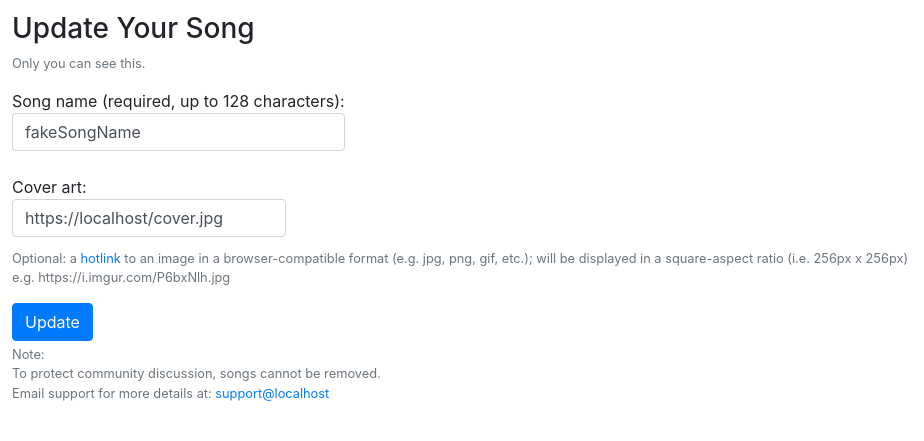
Scenario: show an error if the song name is empty
Clear the field labelled "Song name (required, up to 128 characters):": (178, 132) [12, 113, 345, 151]
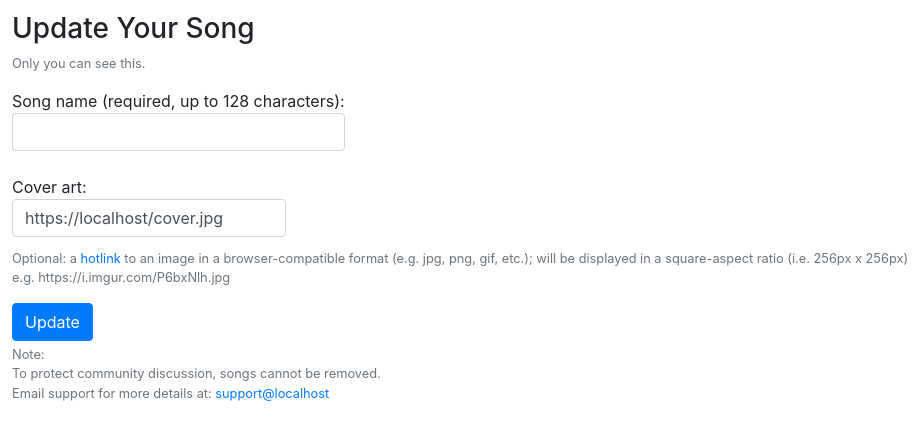
Click the button "Update": (52, 322) [12, 303, 93, 341]
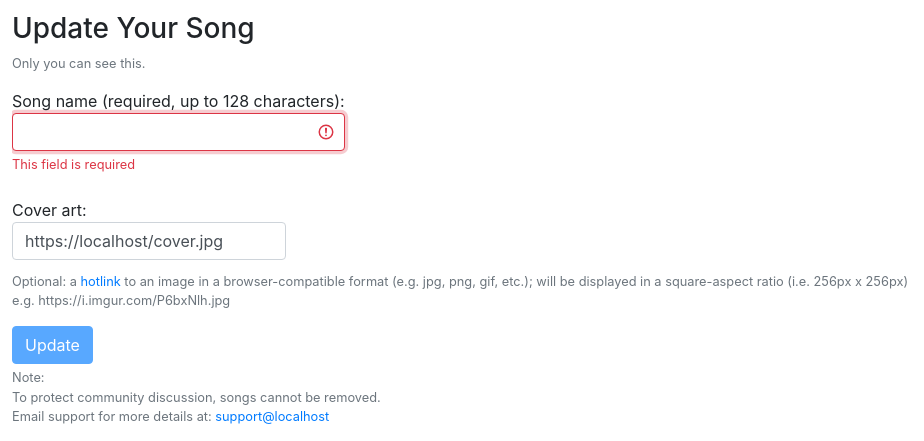
Result: the text "This field is required" is shown at [12, 157, 135, 172]
